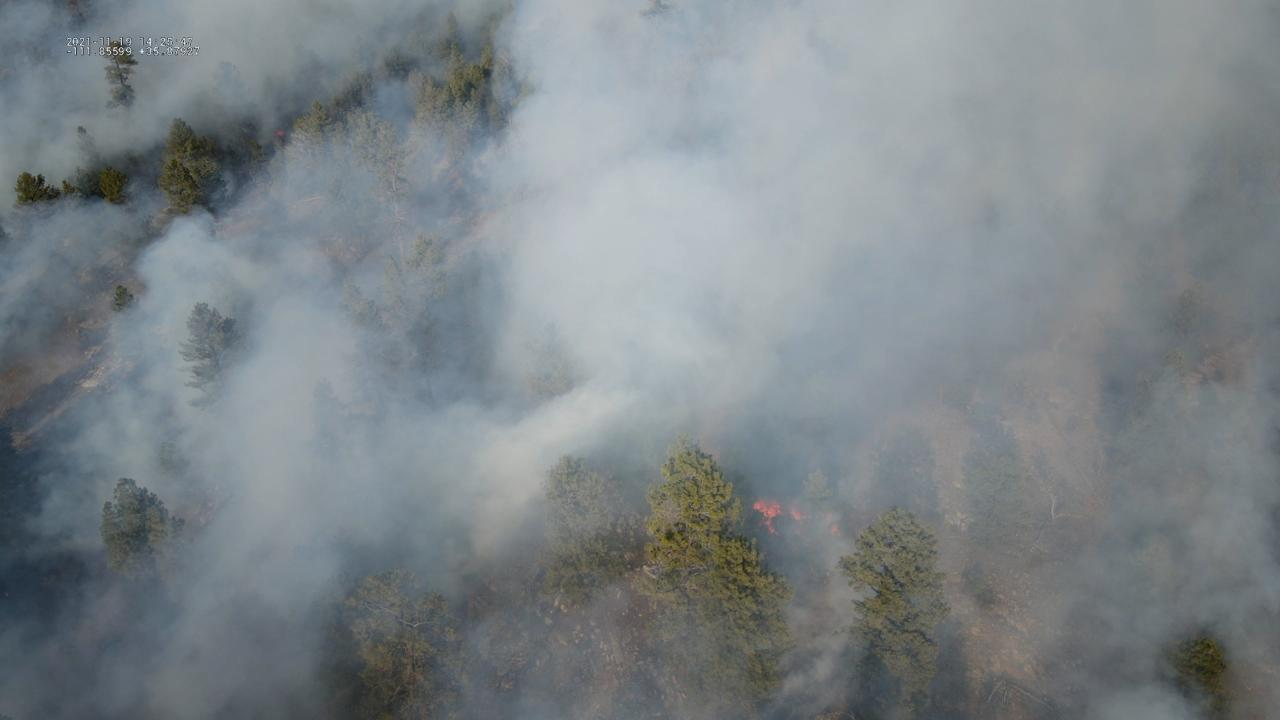fire: (751, 497, 784, 536), (829, 522, 841, 537), (789, 510, 802, 523), (275, 127, 285, 139)
smoke: (0, 0, 1280, 720)
